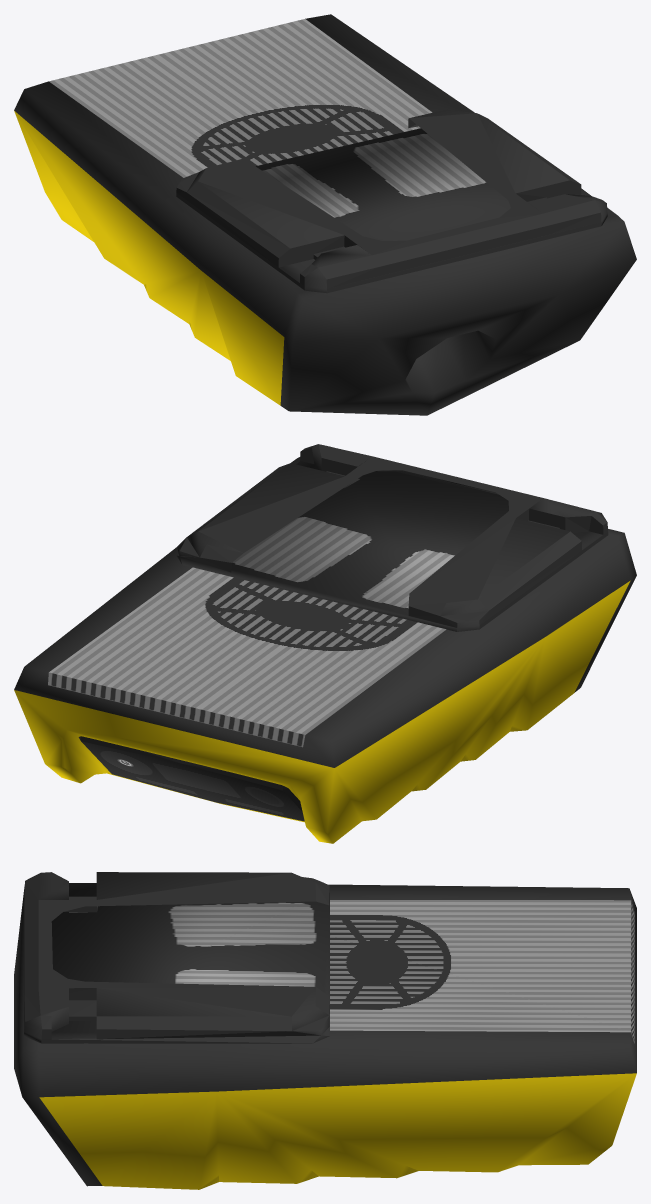
The model's file is ST-LIDAR-case.dae.
3 renders of one model, top to bottom at view 1: azimuth 30°, elevation 25°; view 2: azimuth 150°, elevation 25°; view 3: azimuth 270°, elevation 25°, orthographic. The views are drawn at different scales.
Parts seen in each view (by area): view 1: st lider tex; view 2: st lider tex; view 3: st lider tex.
Part boxes in pixels (left/top/right/bottom): st lider tex: left=14, top=14, right=636, bottom=415; st lider tex: left=14, top=444, right=636, bottom=843; st lider tex: left=14, top=872, right=636, bottom=1189.
Bounding box in the file's own units: 0.1335 × 0.1974 × 0.0751.
Materials: 1 (1 with a texture image).
